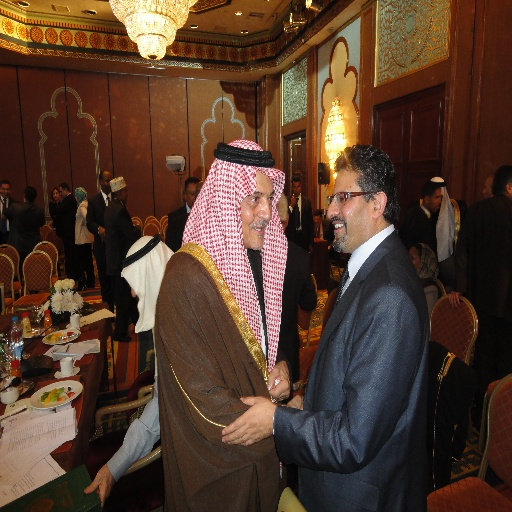hand: (221, 398, 273, 459), (83, 466, 114, 511), (266, 360, 292, 404), (286, 391, 304, 410), (448, 292, 462, 310), (98, 228, 106, 241), (289, 194, 296, 208)
